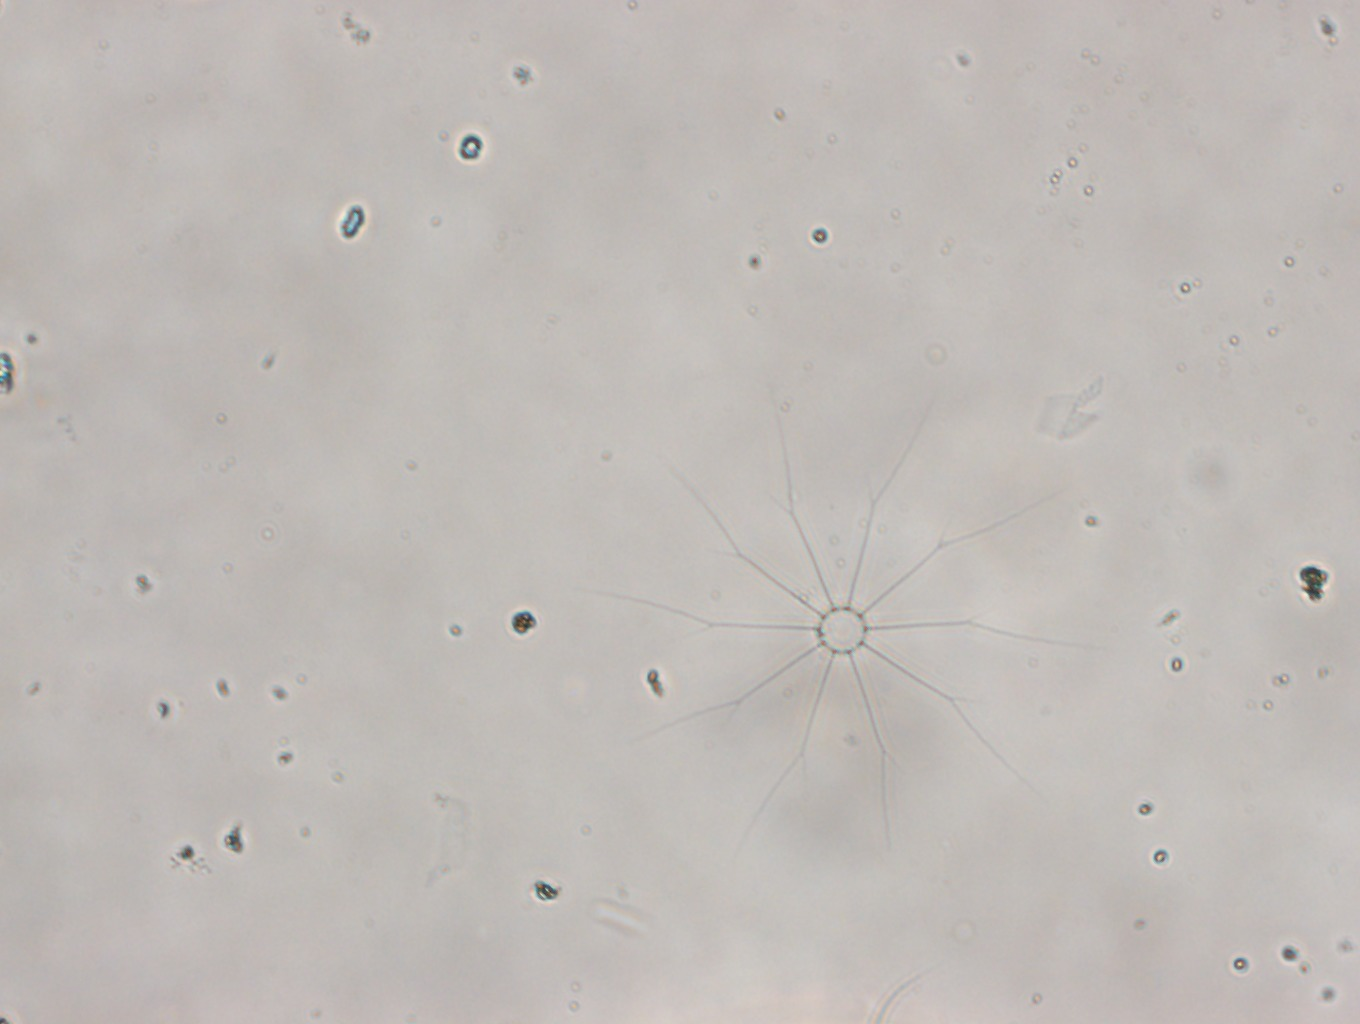bacteriastrum: (601, 392, 1085, 877)
